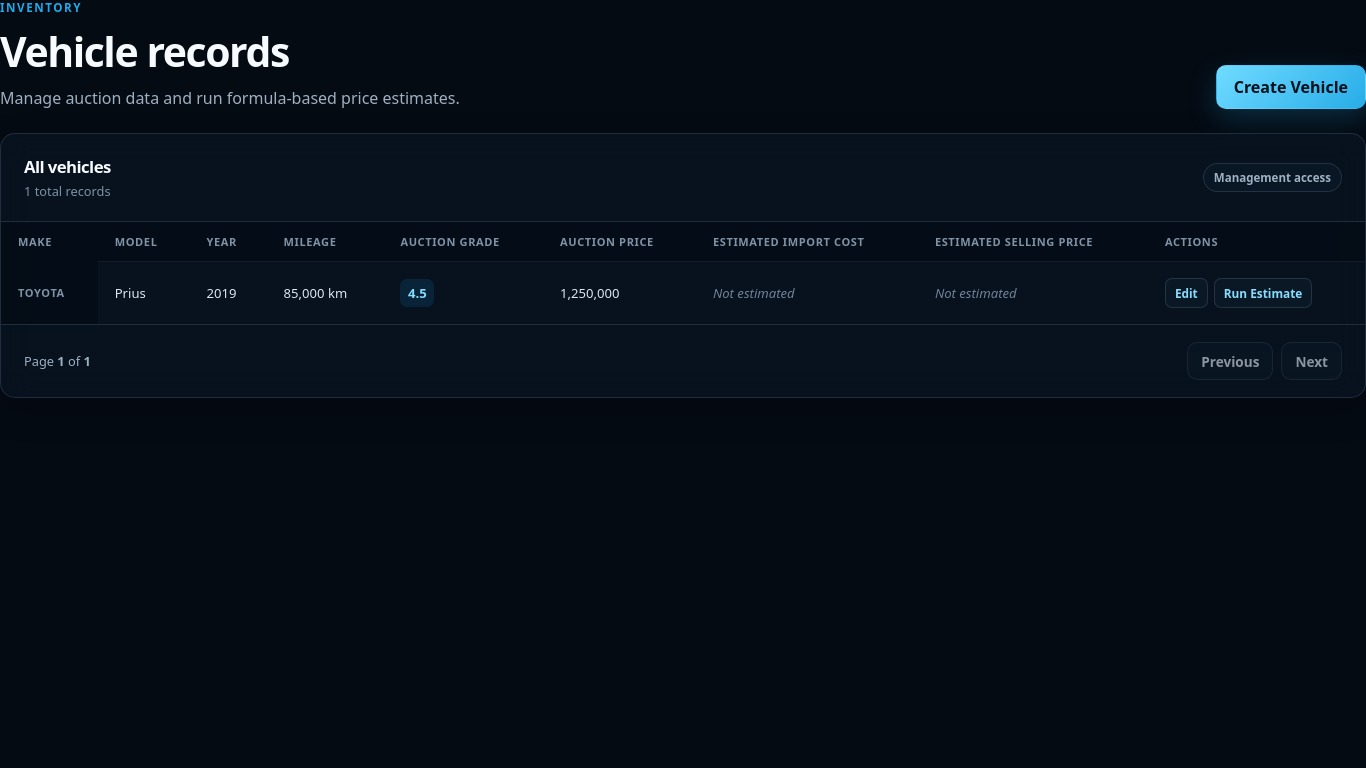
it: VehiclesPage › opens estimate, calculates with defaults, displays results, and refreshes
expect the column heading "Toyota" is shown: met, box [1, 262, 98, 324]
Click the button with aria-label "estimate price for toyota prius".
click(1263, 293)  # box [1214, 278, 1312, 308]
(page scrolled)
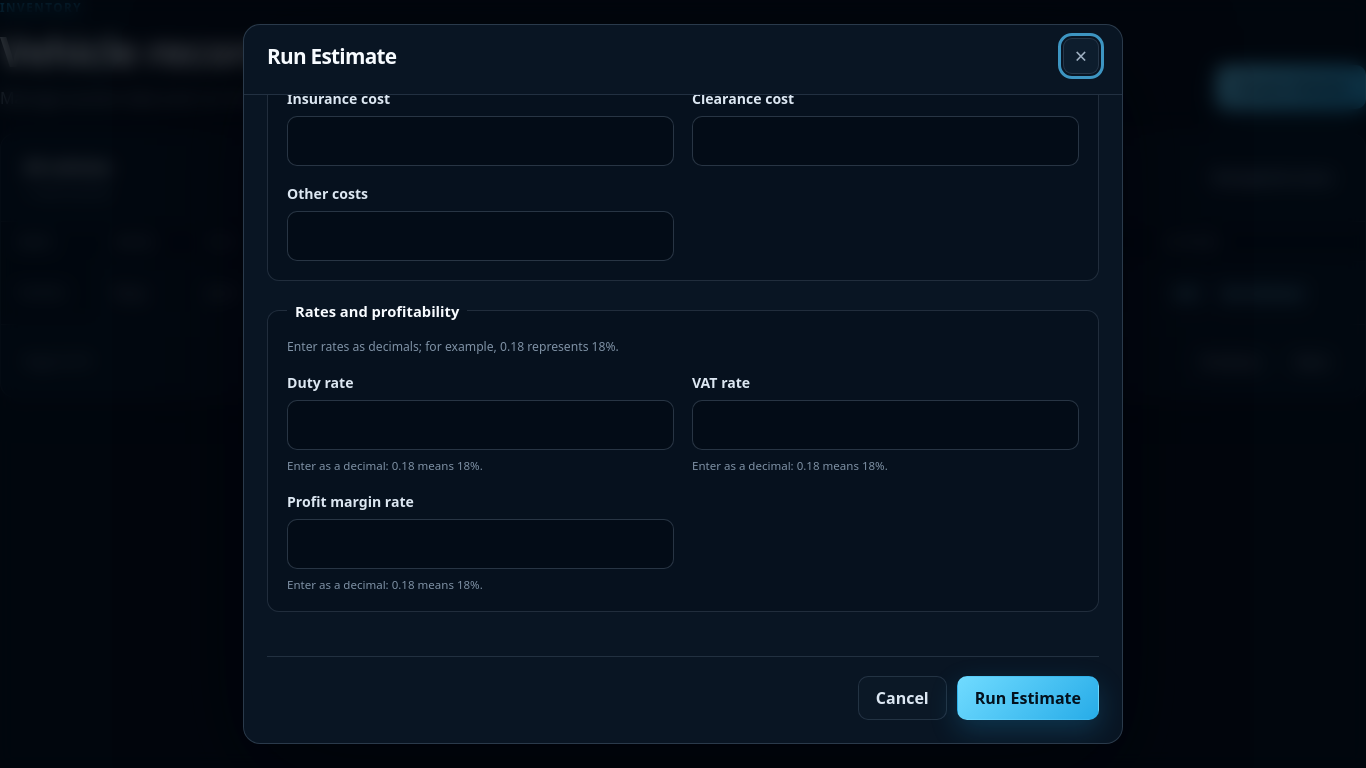
expect the dialog "Run Estimate" is shown: met
Click the button "Run Estimate".
click(1028, 698)  # box [957, 676, 1099, 720]
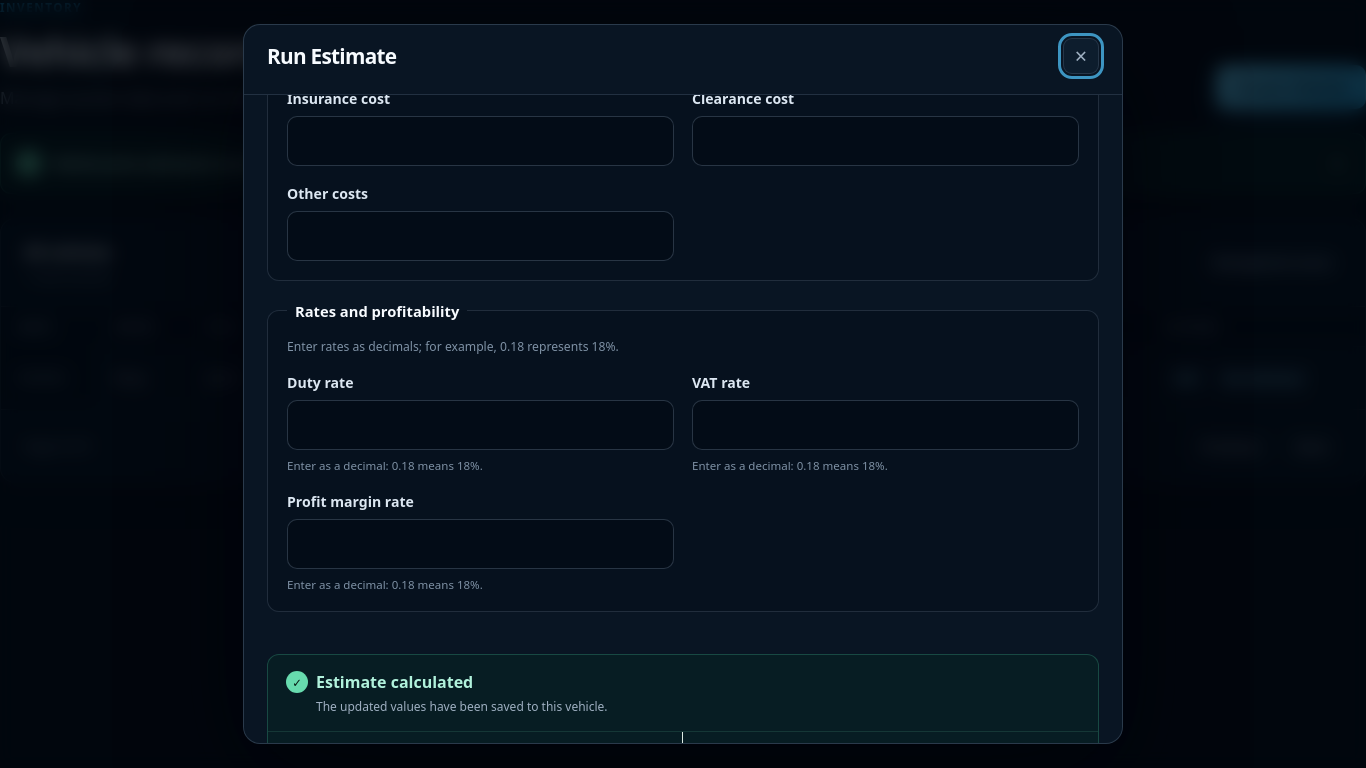
expect the text "Estimate calculated" is shown: met, box [316, 671, 473, 693]
